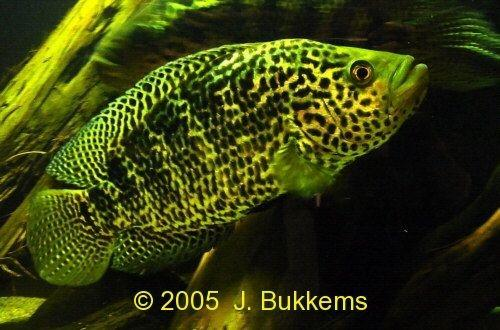Jaguar Gapote: (25, 38, 428, 289)
